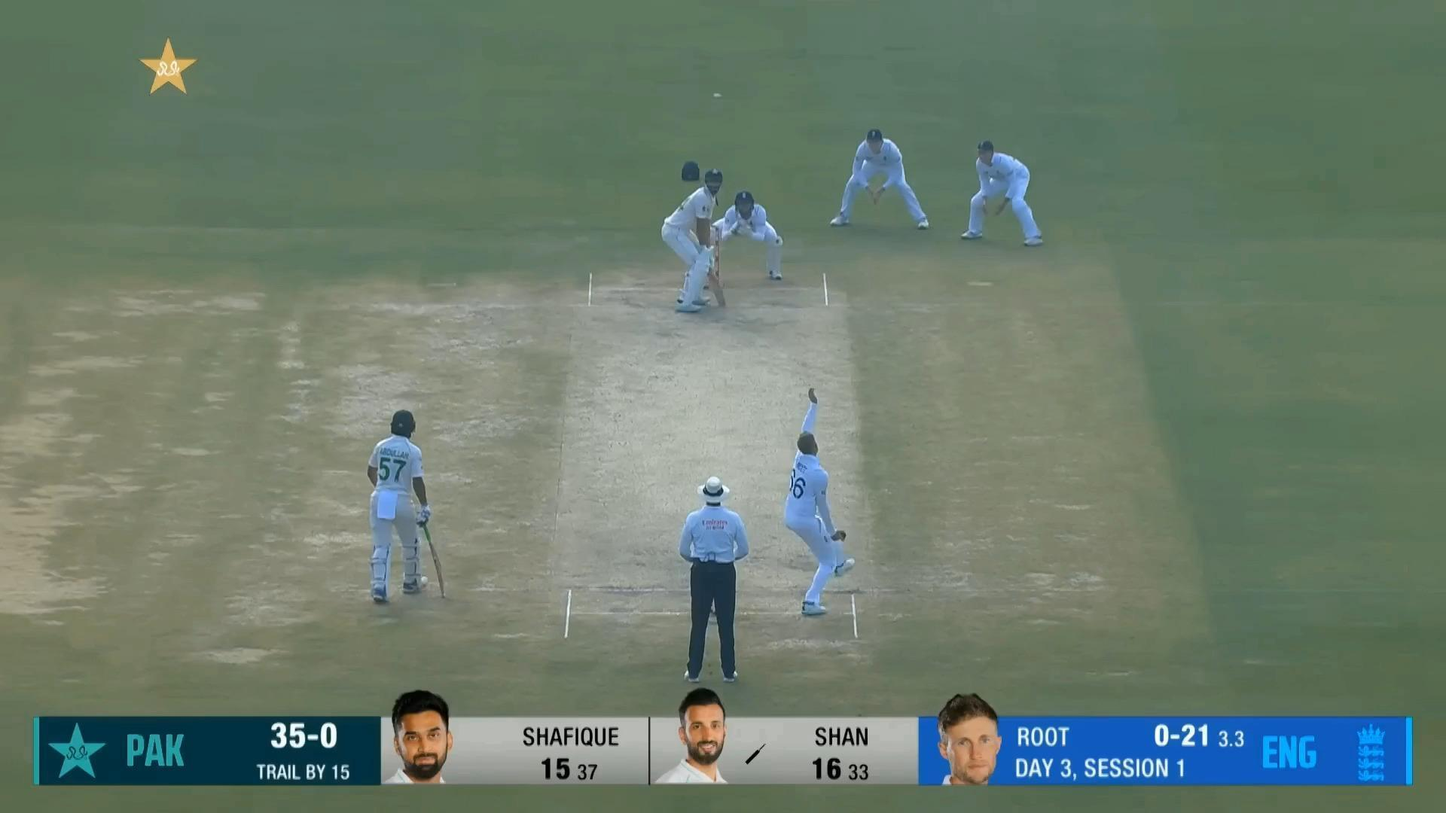BM 1: (660, 166, 728, 313)
BO: (782, 387, 858, 618)
